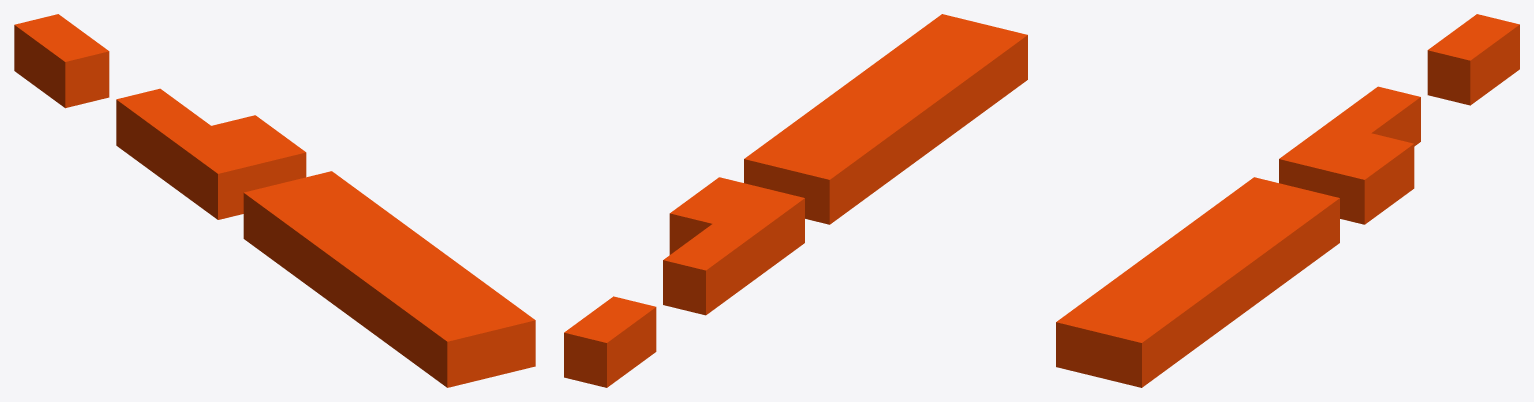
Rendered from Thruster-14-Transtellar_Fire_R.obj.
3 views of the same model, side by side, from view 1: azimuth 30°, elevation 25°; view 2: azimuth 150°, elevation 25°; view 3: azimuth 330°, elevation 25° (orthographic). The views are drawn at different scales.
Visible parts, largest first — view 1: Transtellar_Fire_R; view 2: Transtellar_Fire_R; view 3: Transtellar_Fire_R.
Part boxes in pixels (x1,y1,x2,y2): Transtellar_Fire_R: (14, 14, 535, 387); Transtellar_Fire_R: (564, 14, 1027, 387); Transtellar_Fire_R: (1056, 14, 1519, 387).
Size of the model in its own units: 0.2 by 0.1 by 1.7.
Materials: 1 (1 with a texture image).
